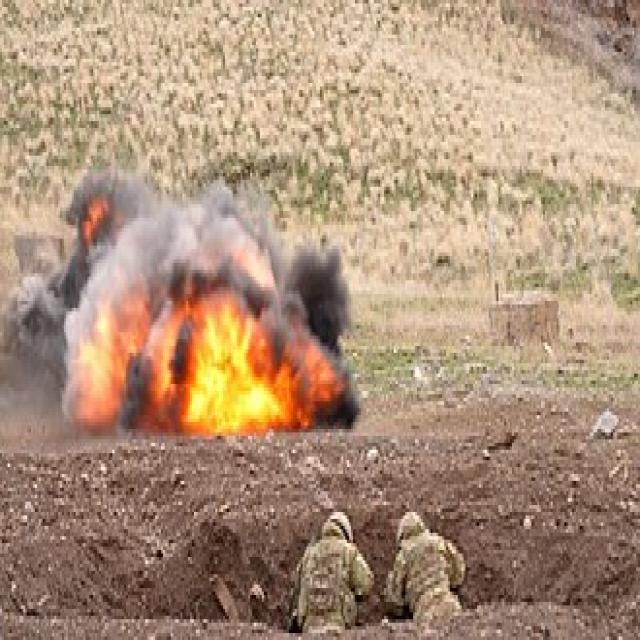explosion: (18, 126, 414, 530)
